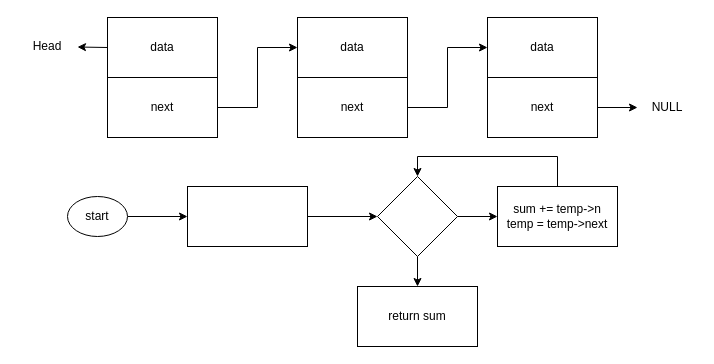
Image size: 714x364. Some labels were removed from this diagram. The shapes that lost their labels are listed below. From the top down, each one's centre as x and y in pixels, then its label:
[247,216]: temp = head
[417,216]: temp != null
